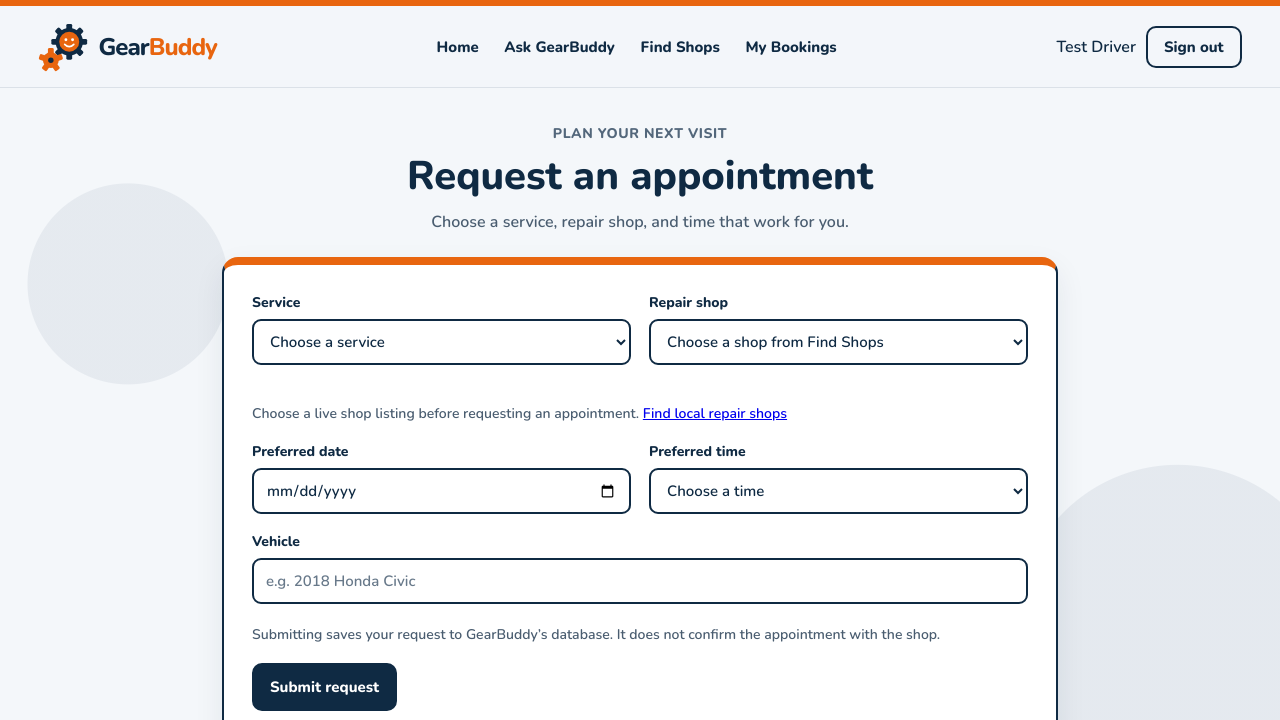
Test: GearBuddy screens › saves an appointment request with the signed-in token
Select "Brake service" in the dropdown labelled "Service" at (442, 342), box [252,319,631,365]
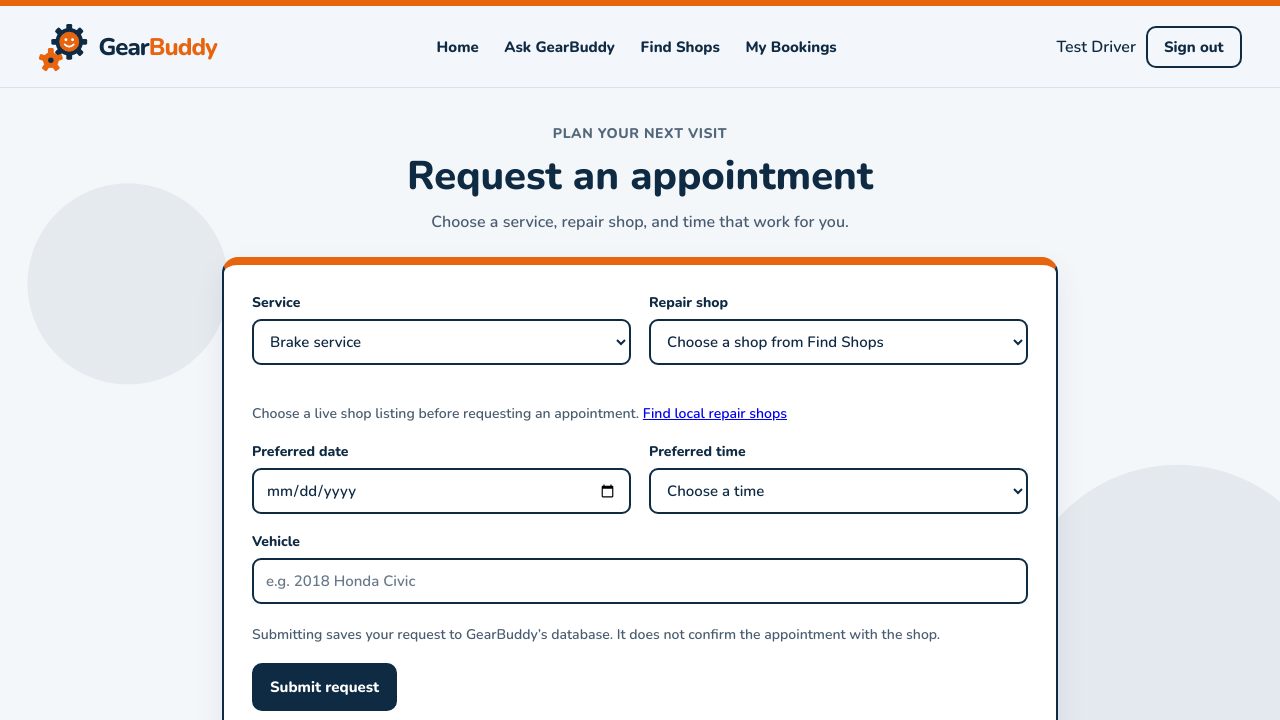
Select "Northside Auto Care" in the dropdown labelled "Repair shop" at (838, 342), box [649,319,1028,365]
Type "2099-01-12" into the date field labelled "Preferred date".
click(442, 491); type("2099-01-12")  # box [252,468,631,514]
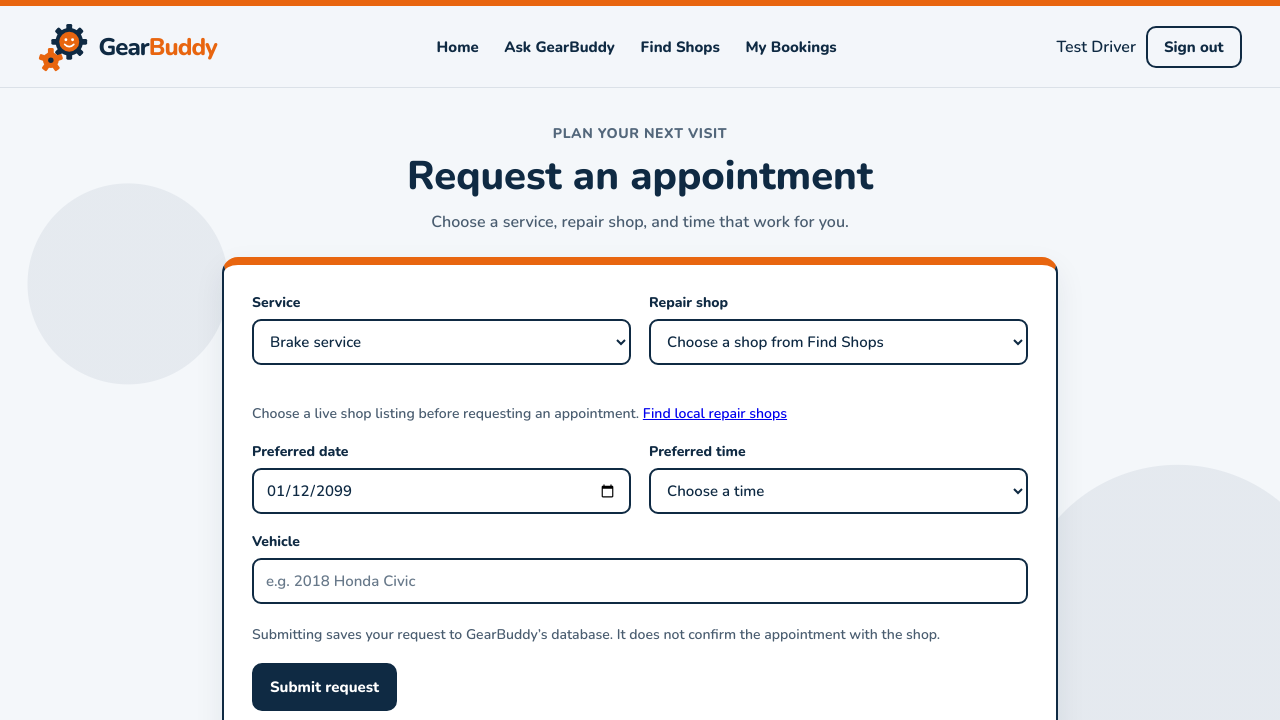
Select "10:00 AM" in the dropdown labelled "Preferred time" at (838, 491), box [649,468,1028,514]
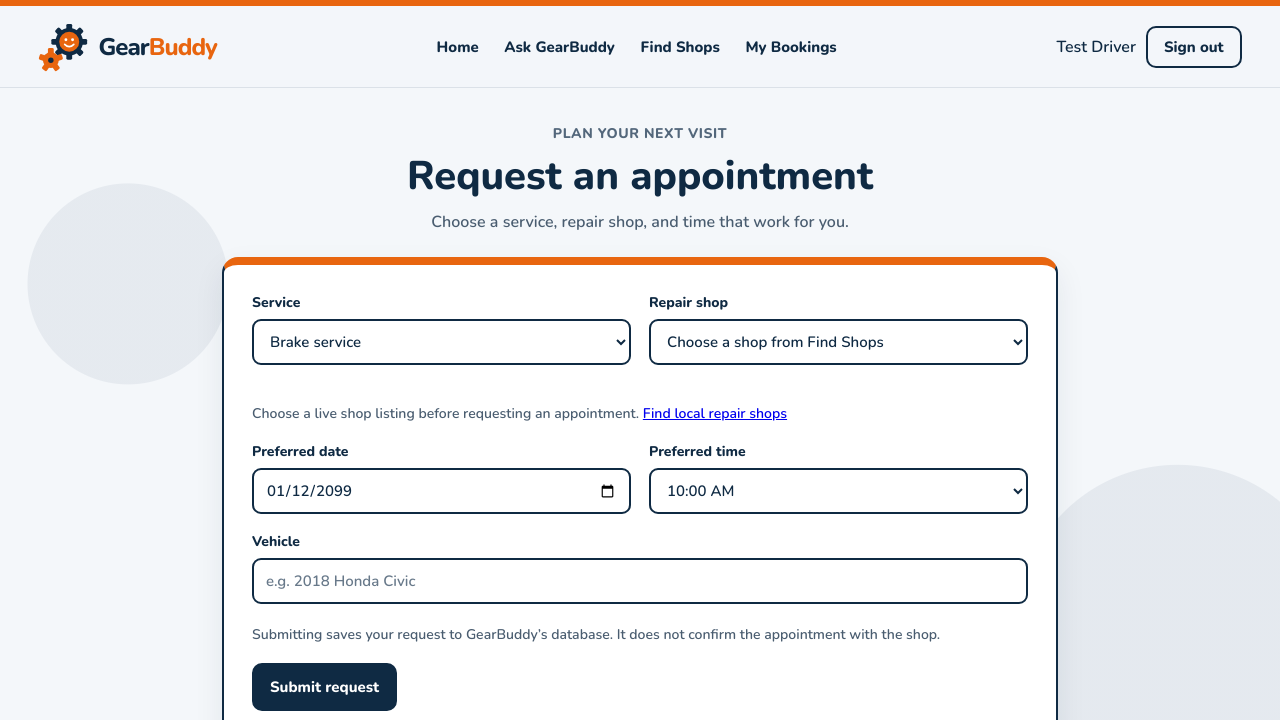
Type "2018 Honda Civic" into the field labelled "Vehicle".
click(640, 581); type("2018 Honda Civic")  # box [252,558,1028,604]
(page scrolled)
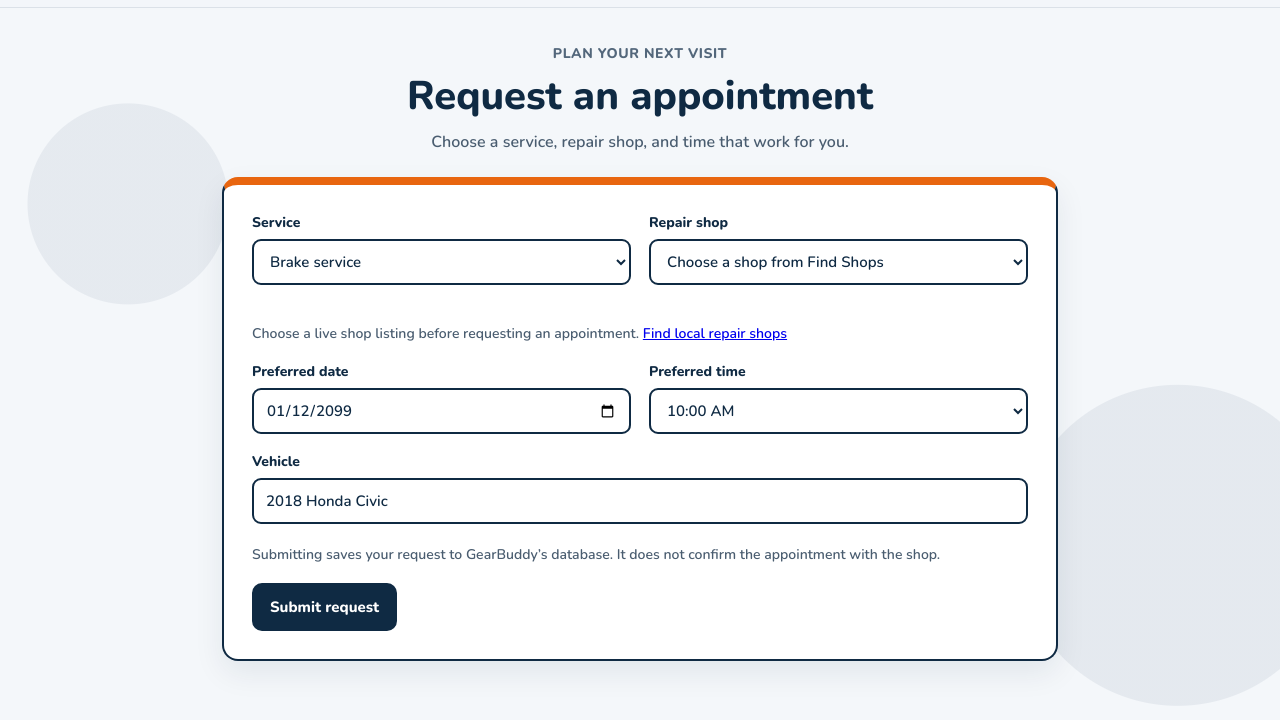
Submit the form named "Request an appointment", box [222,177,1058,661]
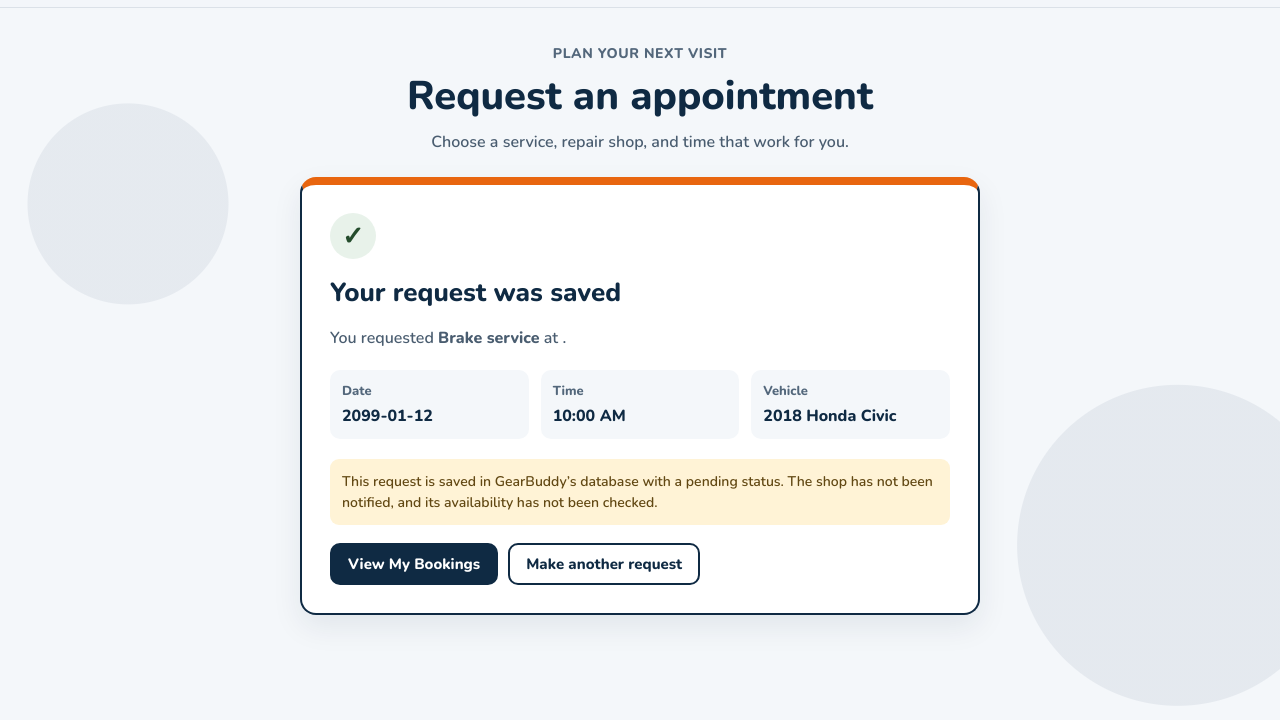
Check: the heading "Your request was saved" is shown, box [330,275,621,310]
